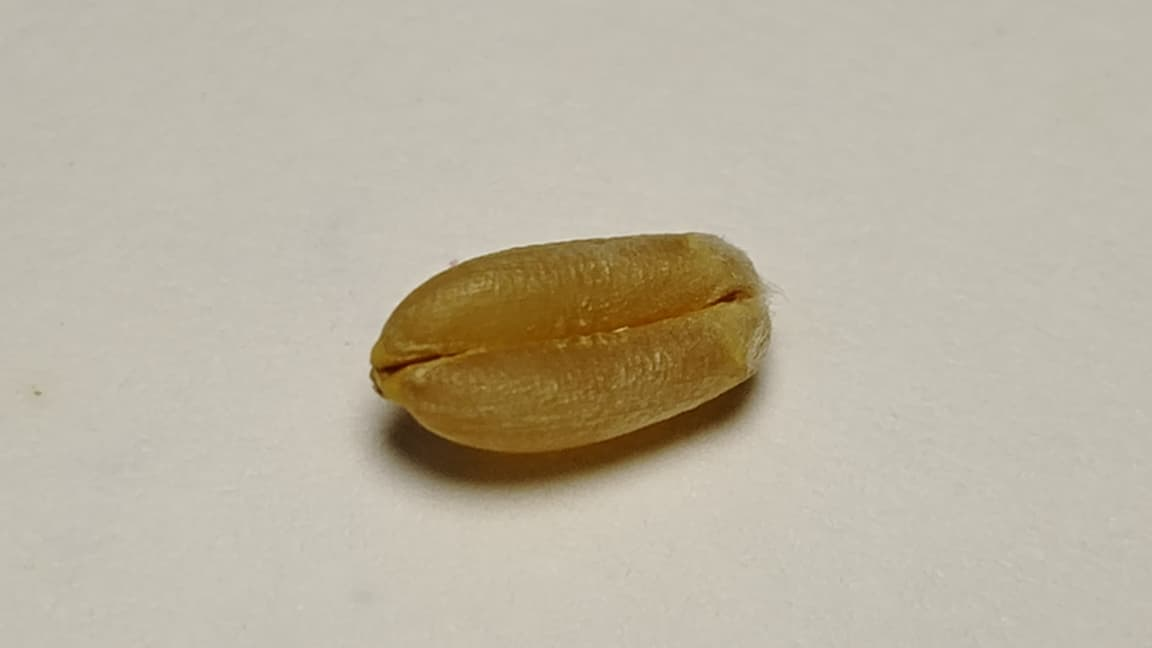healthy: (371, 233, 769, 451)
